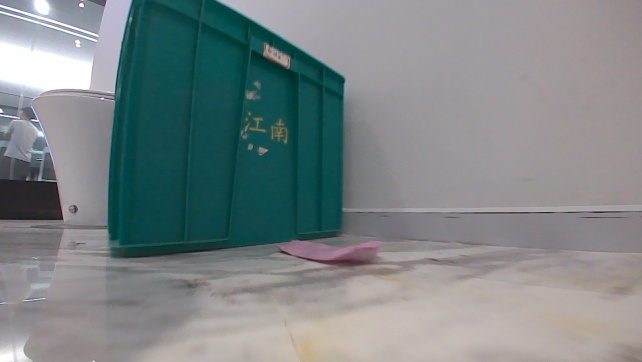socks: (273, 236, 383, 264)
toilet: (28, 83, 112, 229)
